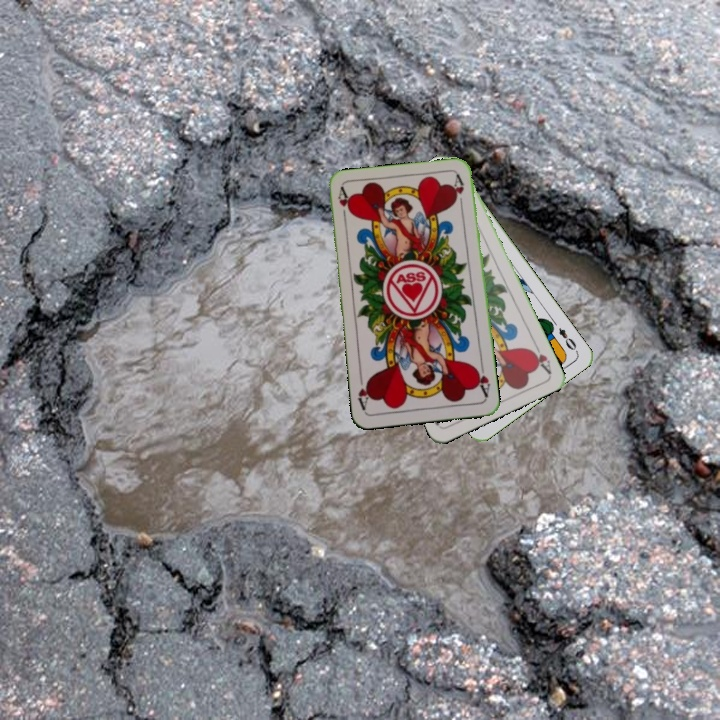EO: (554, 323, 580, 355)
HA: (526, 338, 554, 376), (471, 359, 493, 400), (334, 185, 353, 225)
